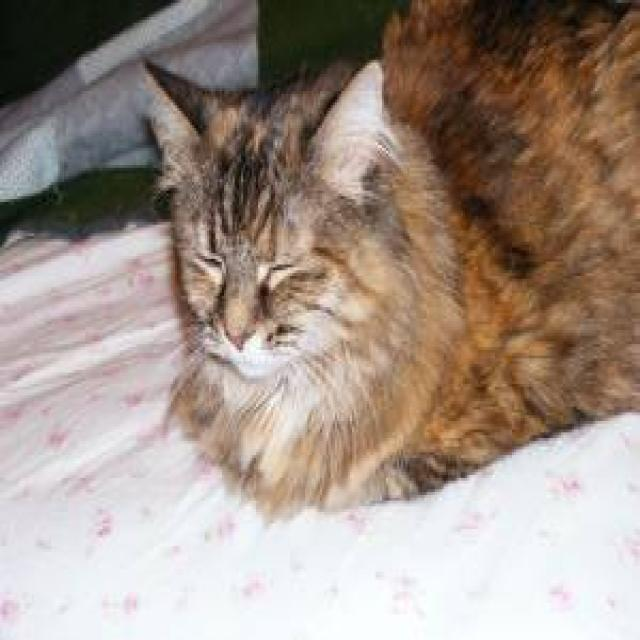Maine_Coon: (135, 49, 393, 391)
